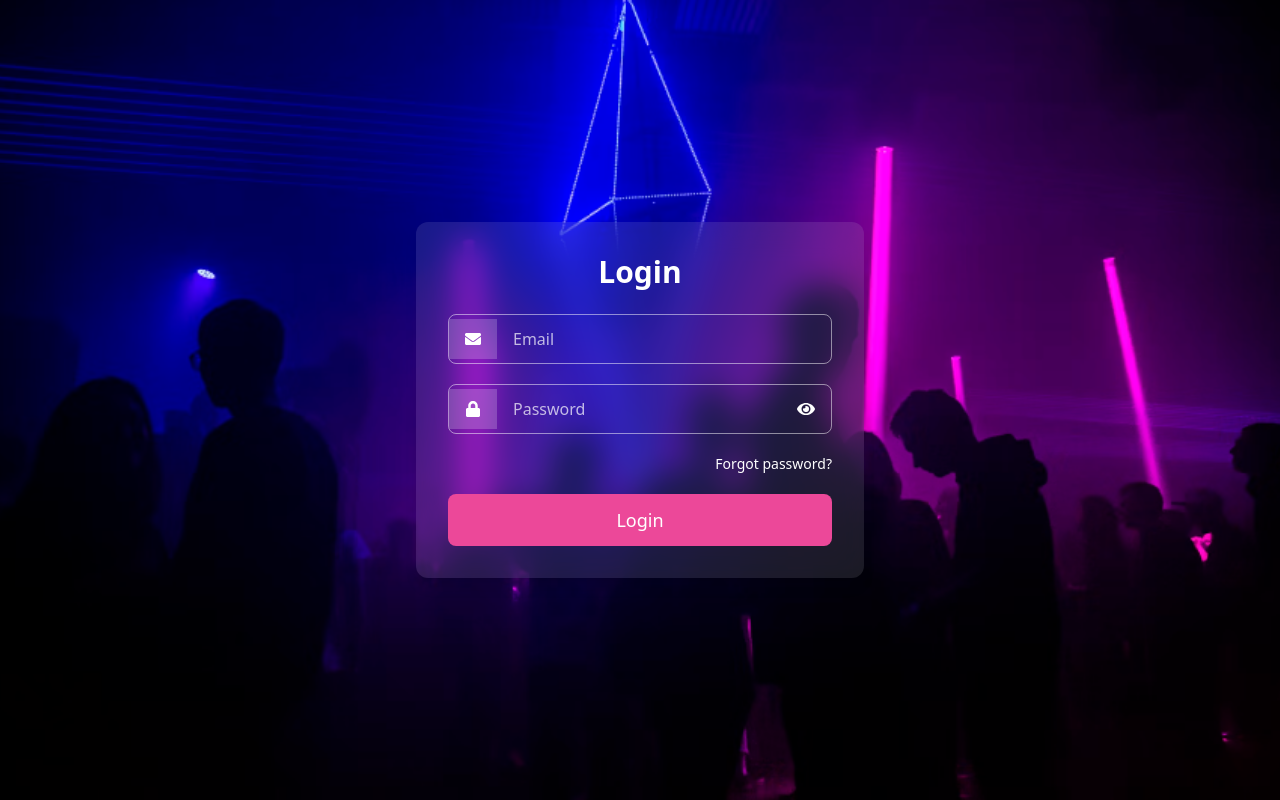
Test case: LoginPage › displays error message when API returns an error
Step 1. Type "error@example.com" into the field with placeholder "Email" → (664, 339), box [497, 315, 831, 363]
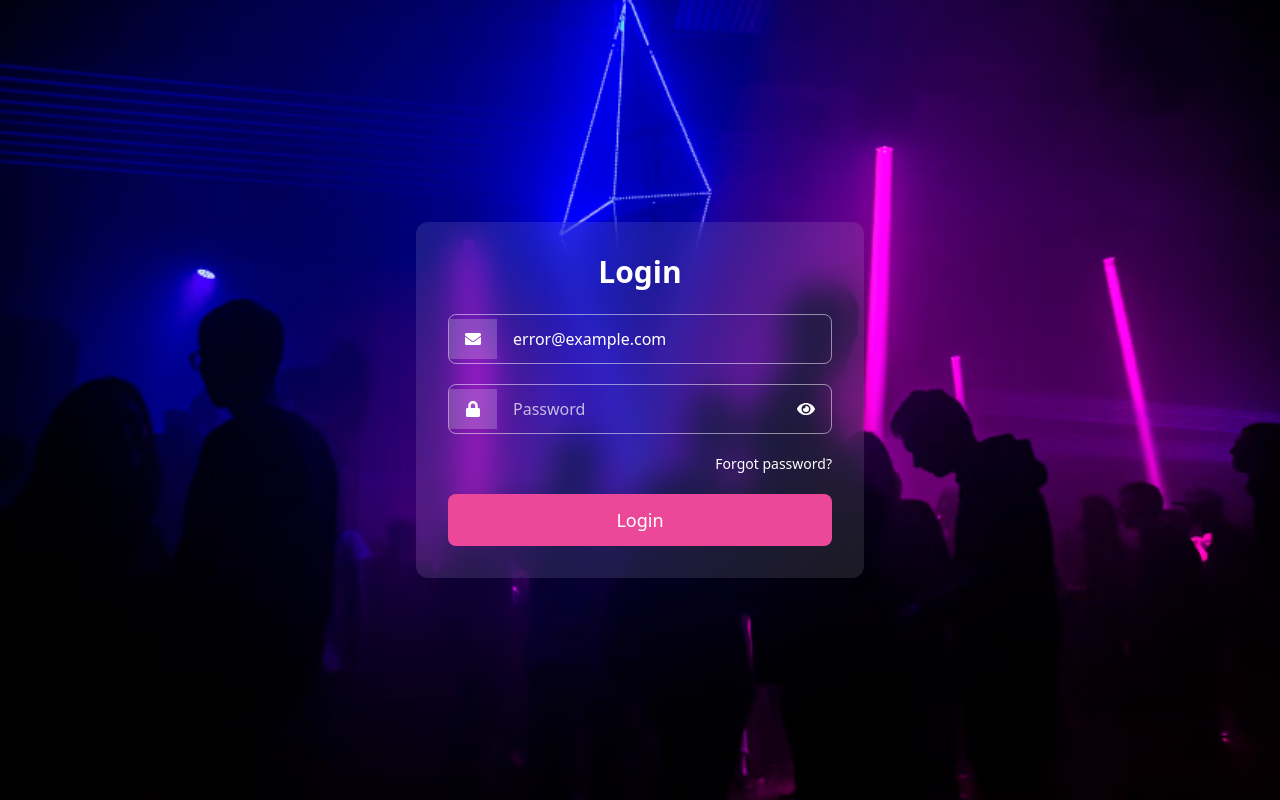
Step 2. Type "password123" into the password field with placeholder "Password" → (664, 409), box [497, 385, 831, 433]
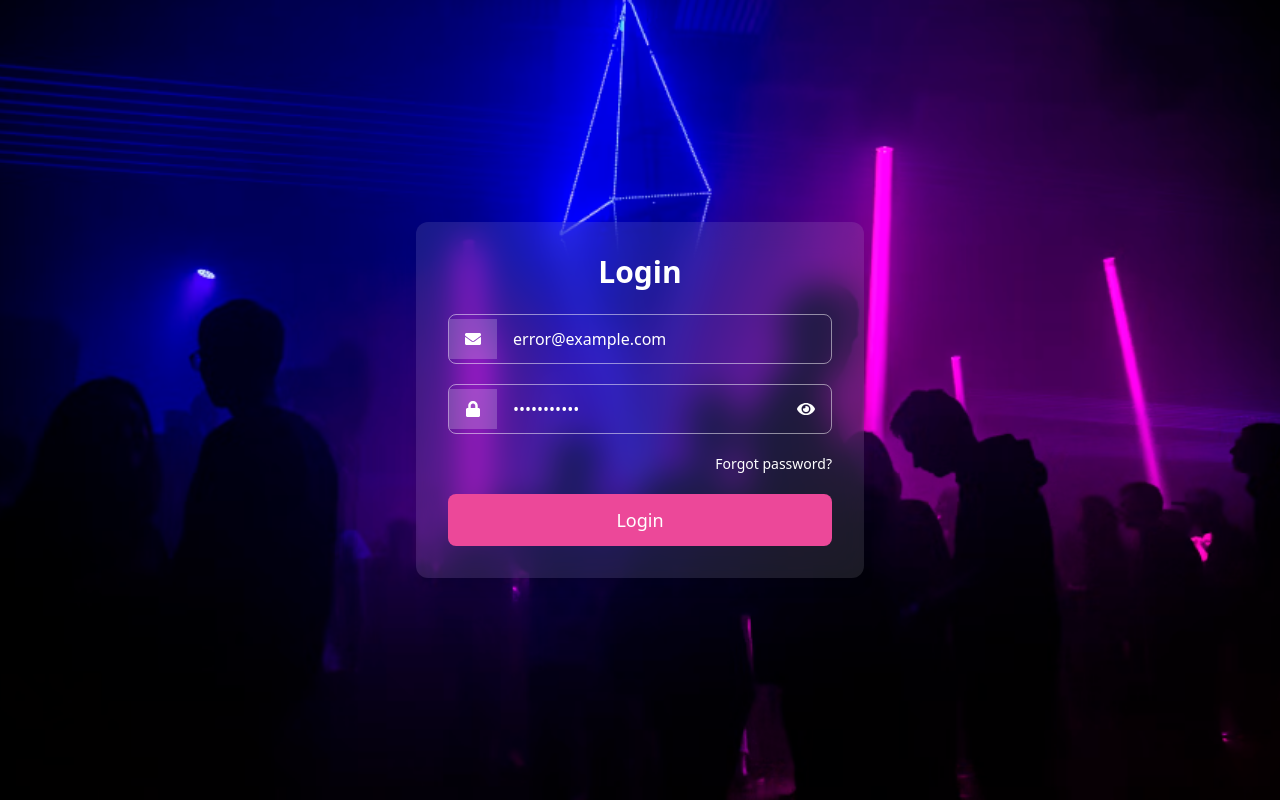
Step 3. Click the button "Login" → click(640, 520), box [448, 494, 832, 546]
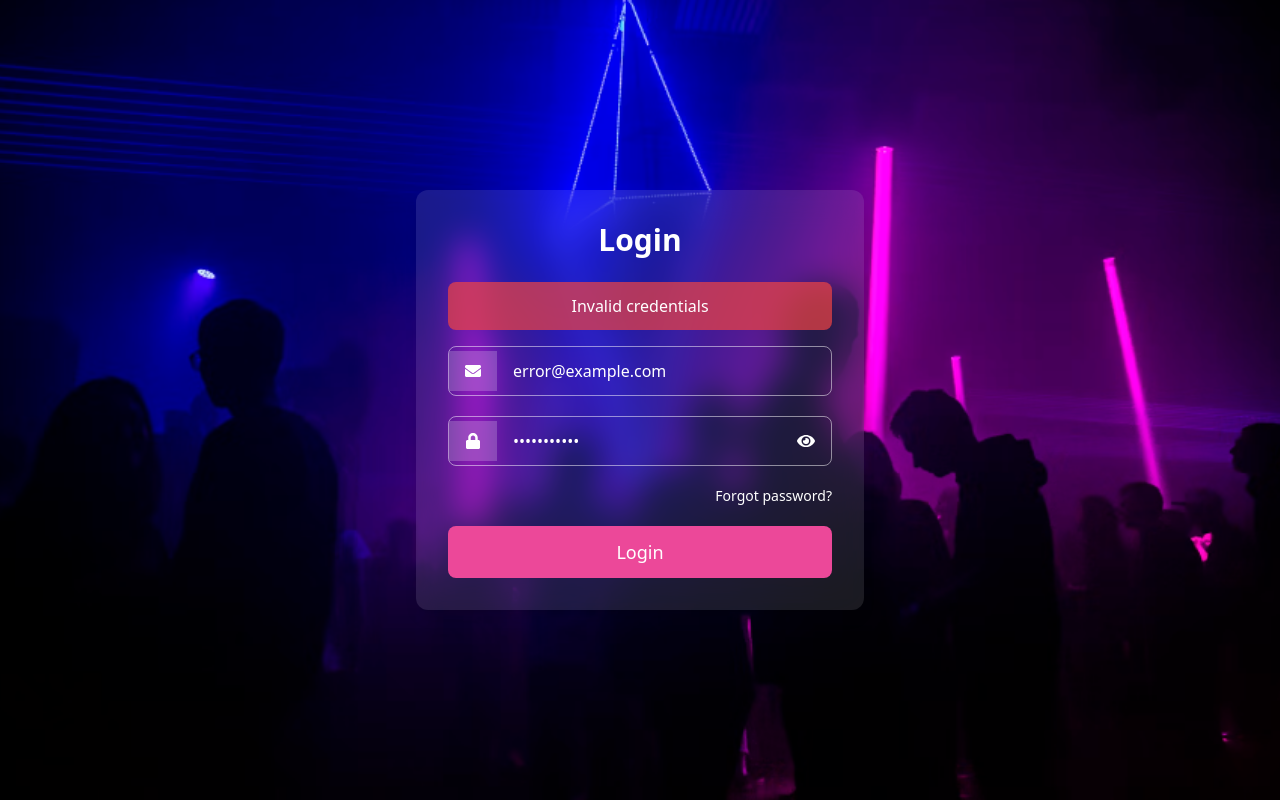
Now the text "Invalid credentials" is shown, box [448, 282, 832, 330]
